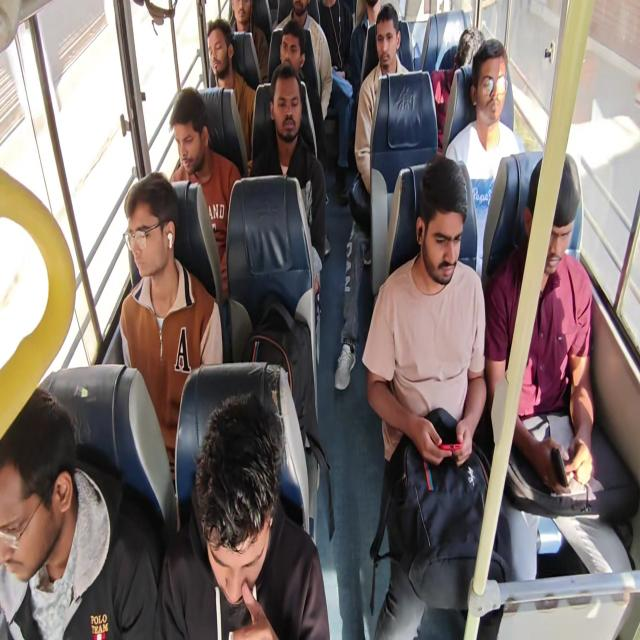person: (174, 388, 287, 614), (0, 385, 66, 640), (124, 192, 206, 376), (400, 157, 478, 331), (515, 128, 608, 267), (200, 24, 270, 80), (316, 0, 368, 69), (160, 96, 210, 167), (270, 24, 310, 97), (370, 4, 410, 72), (445, 26, 488, 86), (477, 44, 510, 118), (264, 73, 298, 142), (226, 0, 259, 30), (362, 0, 384, 18), (281, 2, 300, 22)
